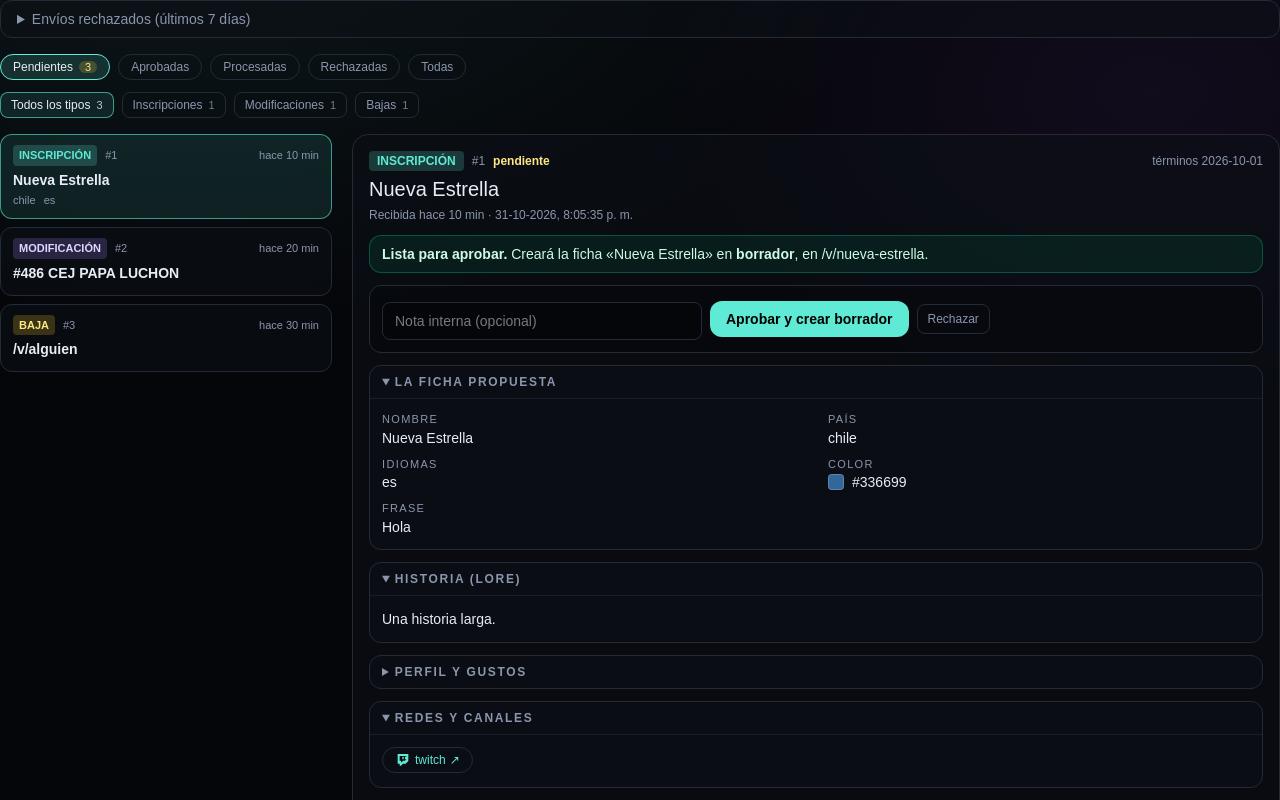
Test: SolicitudesManager: resolver › al cambiar de solicitud se limpia la nota y la confirmación de la anterior
Expected: the button "Aprobar y crear borrador" is enabled, [710, 301, 908, 337]
In the field named "Nota de la solicitud 1": (542,321) [382, 302, 702, 340], type "nota vieja"
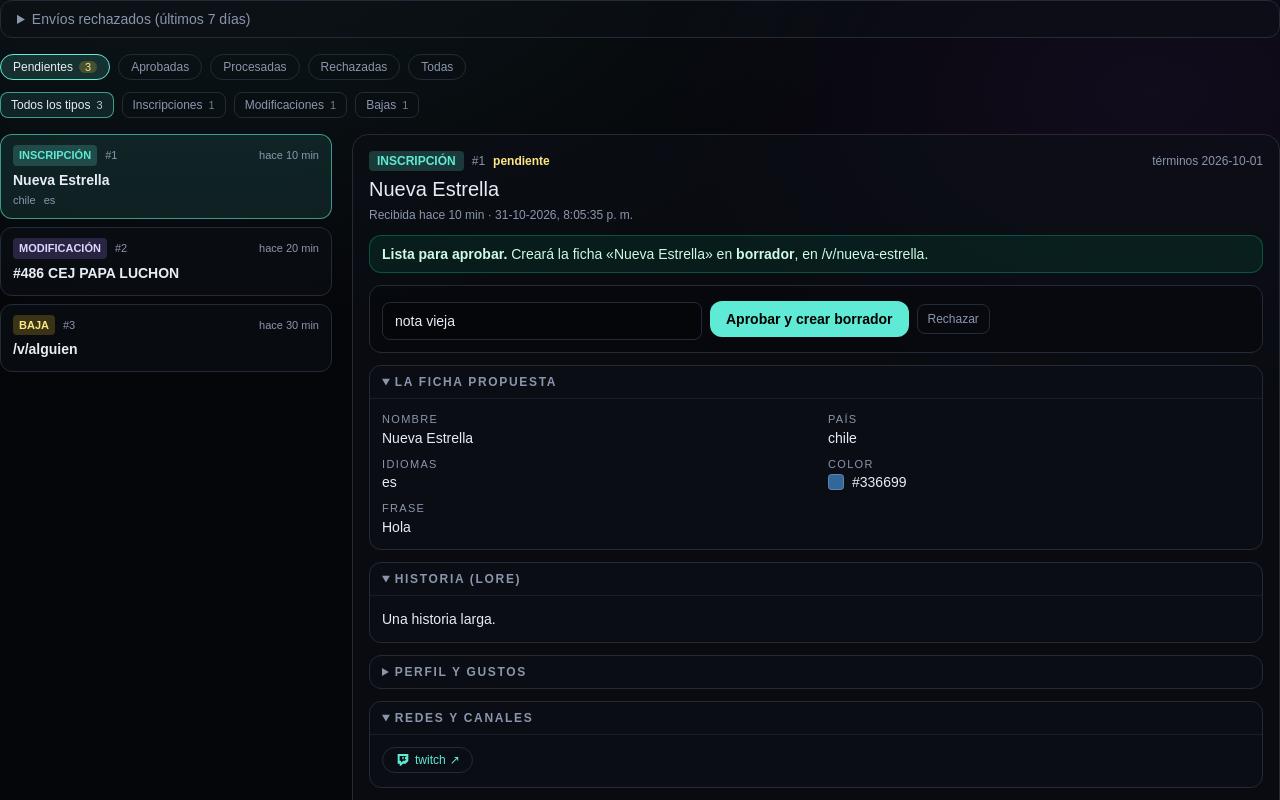
Click the button "Rechazar": (953,319) [916, 304, 990, 334]
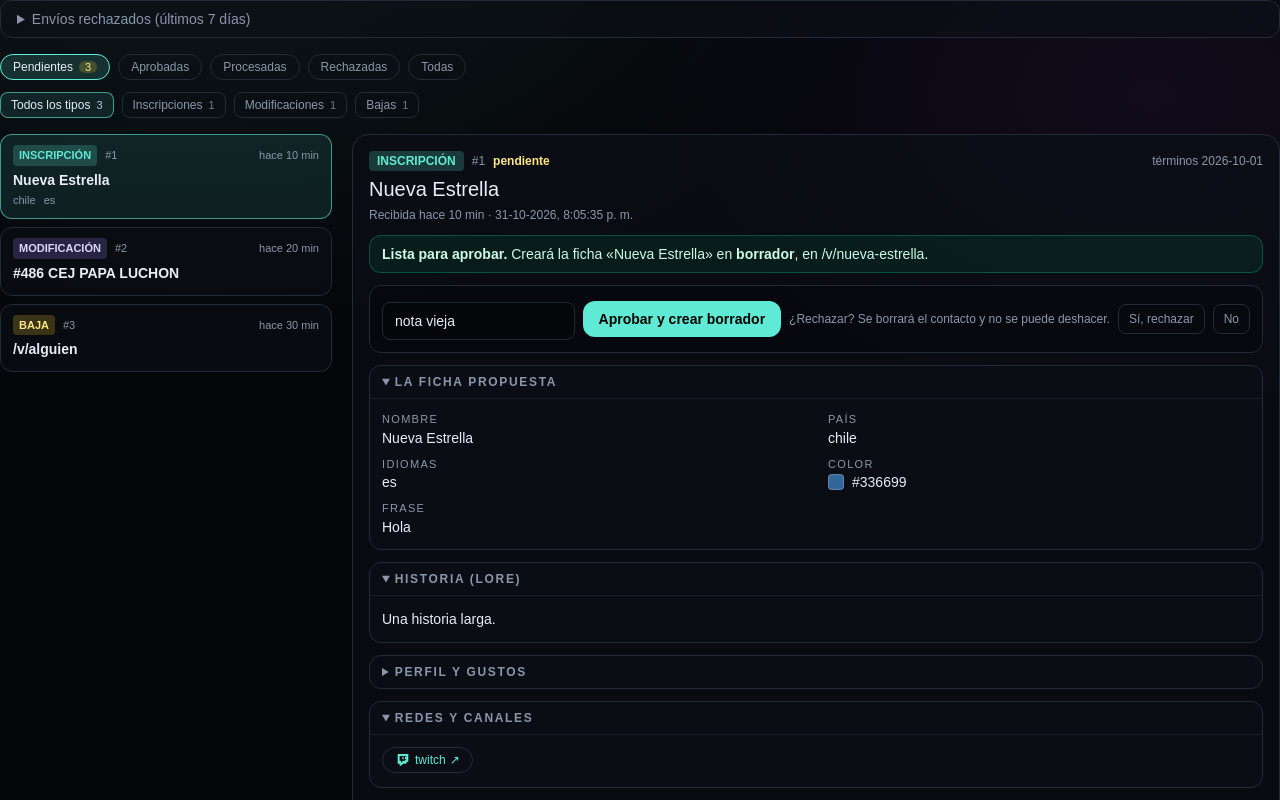
Click the button with test id "solicitud-3": (34,325) [0, 304, 332, 372]
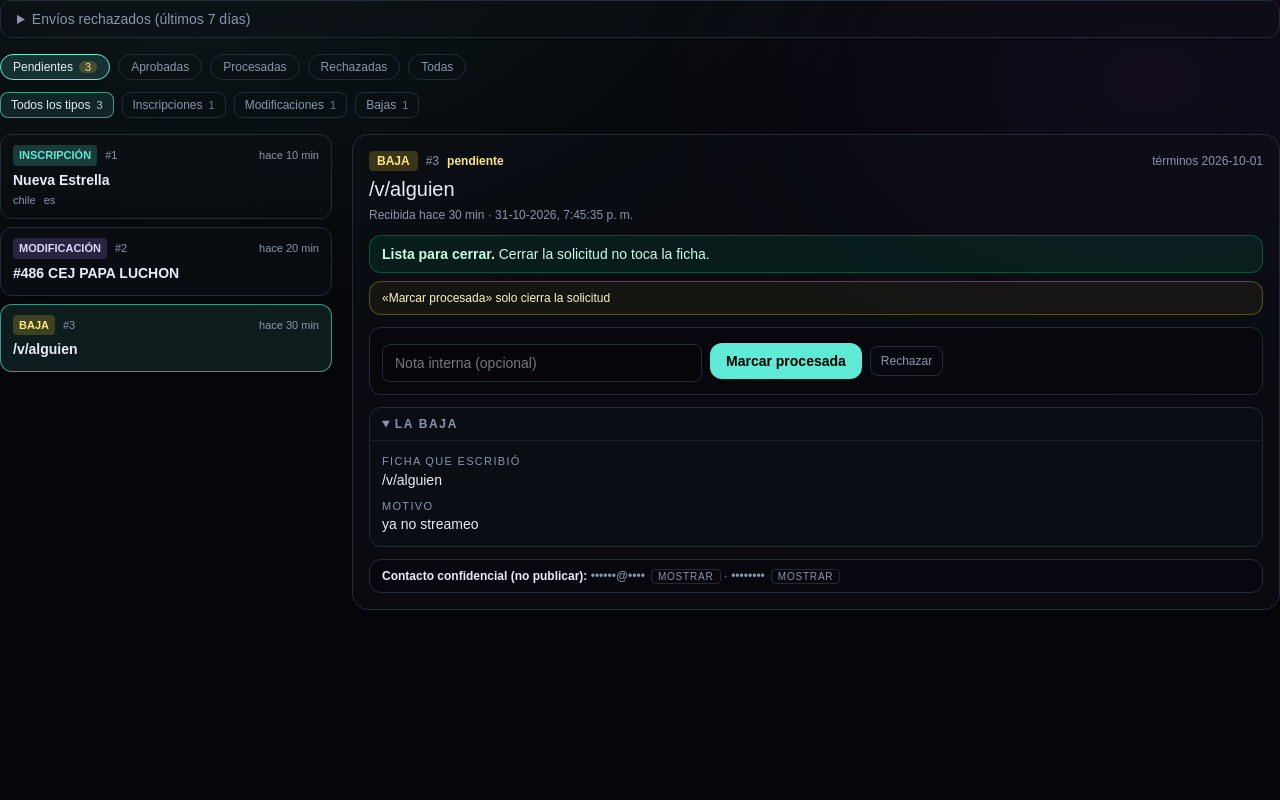
Expected: the heading "/v/alguien" is shown, [369, 178, 455, 200]
Expected: the field named "Nota de la solicitud 3" is empty, [382, 344, 702, 382]
Expected: the element with test id "solicitud-confirmar-rechazo" is gone
